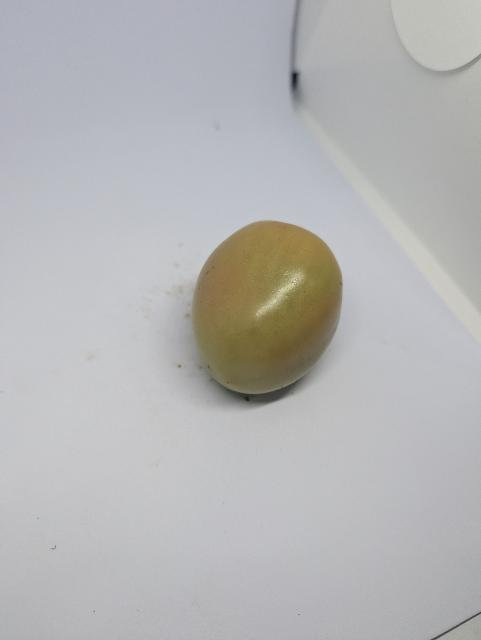breaker: (186, 215, 360, 405)
